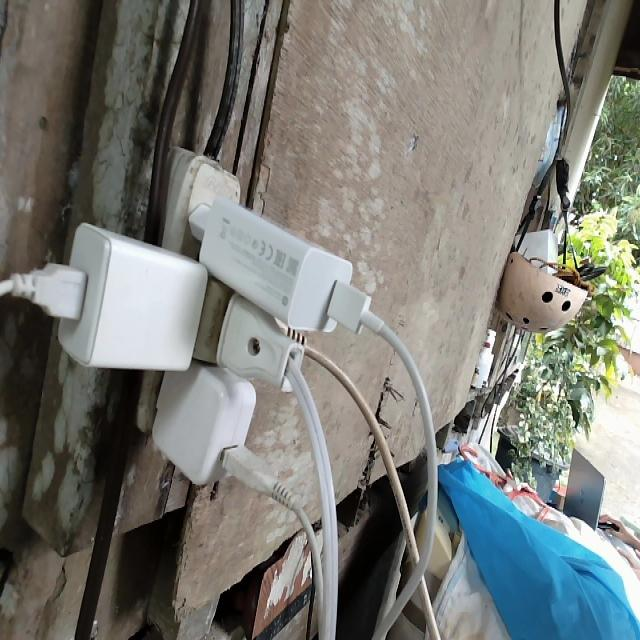-: (10, 145, 371, 512)
